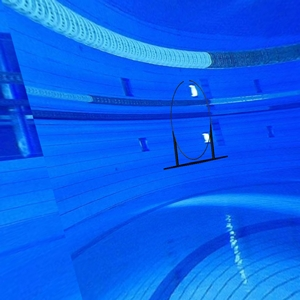circle: (162, 78, 228, 174)
